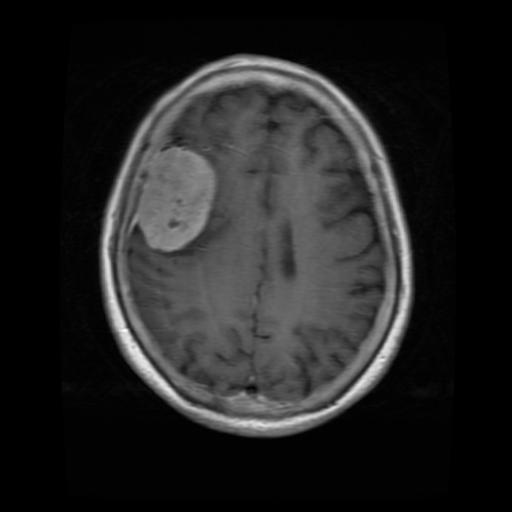Menigiomia_tumour: (137, 146, 216, 250)
